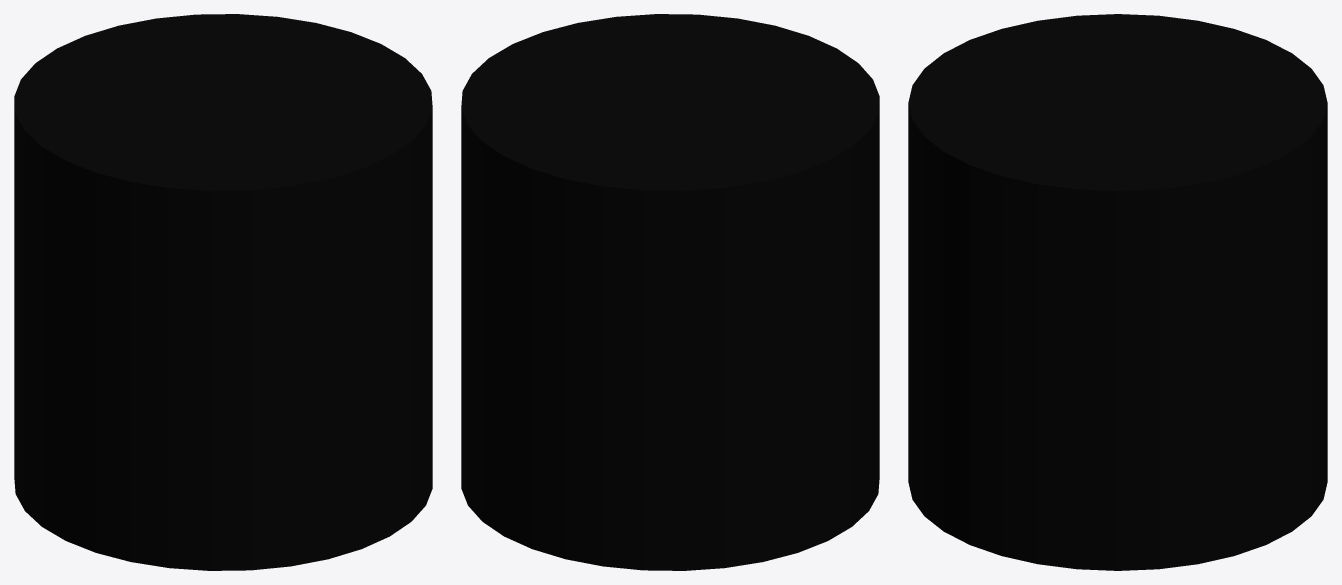
3 renders of one model, left to right at view 1: azimuth 30°, elevation 25°; view 2: azimuth 150°, elevation 25°; view 3: azimuth 270°, elevation 25°, orthographic.
Visible parts, largest first — view 1: 円柱; view 2: 円柱; view 3: 円柱.
Part boxes in pixels (x1,y1,x2,y2): 円柱: (14,14,432,570); 円柱: (461,14,879,570); 円柱: (908,14,1327,570).
Bounding box in the file's own units: 2 × 2 × 2.
Materials: 1 (1 with a texture image).
